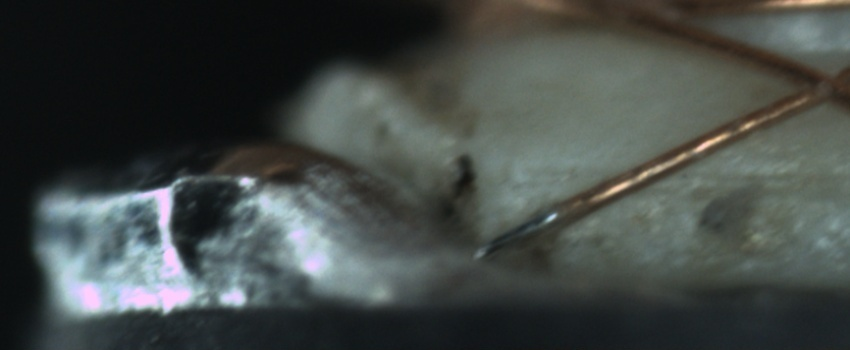CL: (772, 52, 849, 117)
DL: (531, 144, 850, 206)
TS: (471, 204, 562, 256)
